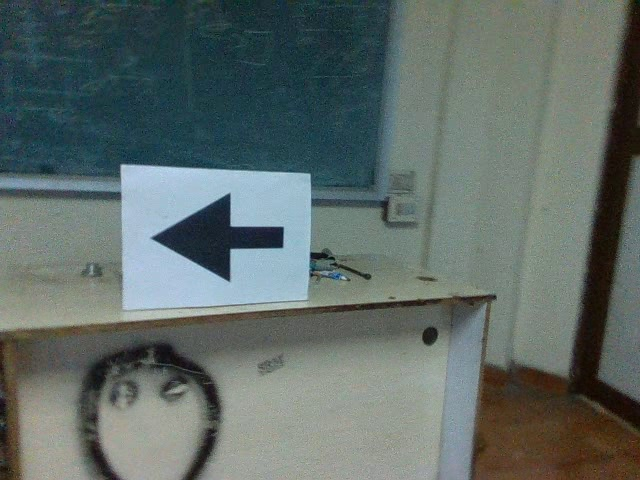Left: (141, 183, 291, 283)
